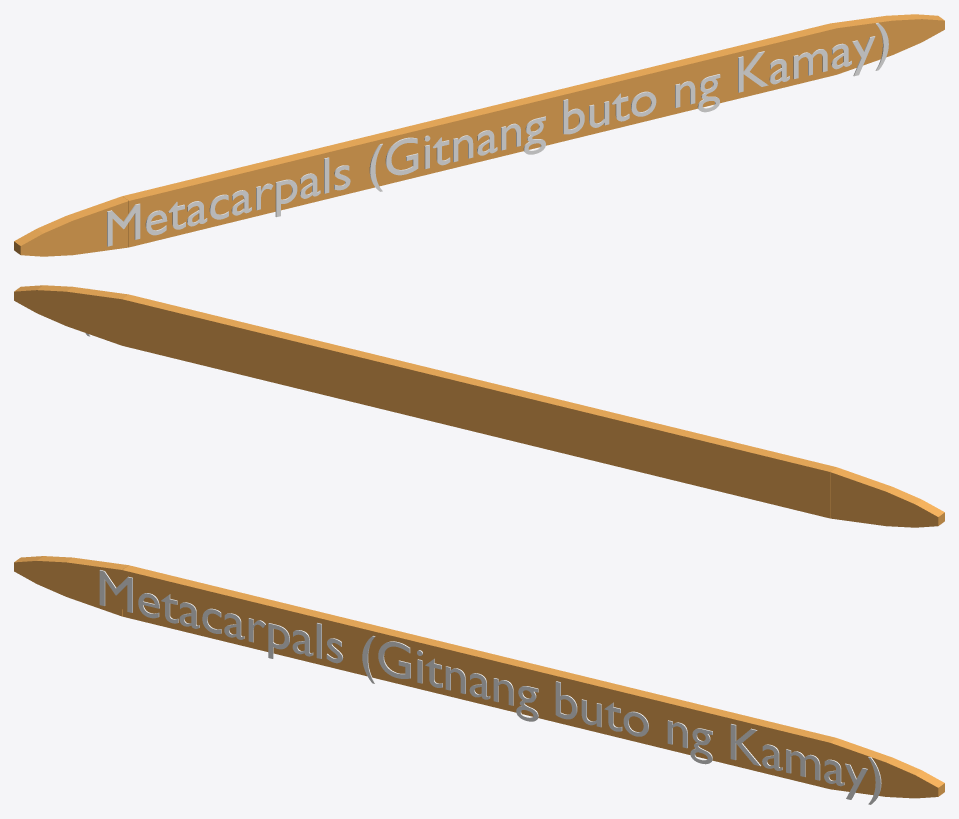
Rendered from txtMetacarpals.fbx.
3 renders of one model, top to bottom at view 1: azimuth 30°, elevation 25°; view 2: azimuth 150°, elevation 25°; view 3: azimuth 330°, elevation 25°, orthographic.
Visible parts, largest first — view 1: TagContainer.059, Text.060; view 2: TagContainer.059; view 3: TagContainer.059, Text.060.
Boxes of the visible parts, bbox=[...] form: TagContainer.059: bbox=[14, 14, 944, 256]; Text.060: bbox=[107, 23, 888, 246]; TagContainer.059: bbox=[14, 285, 944, 527]; TagContainer.059: bbox=[14, 556, 944, 798]; Text.060: bbox=[99, 570, 881, 804].
Bounding box in the file's own units: 859 × 45.81 × 11.79.
